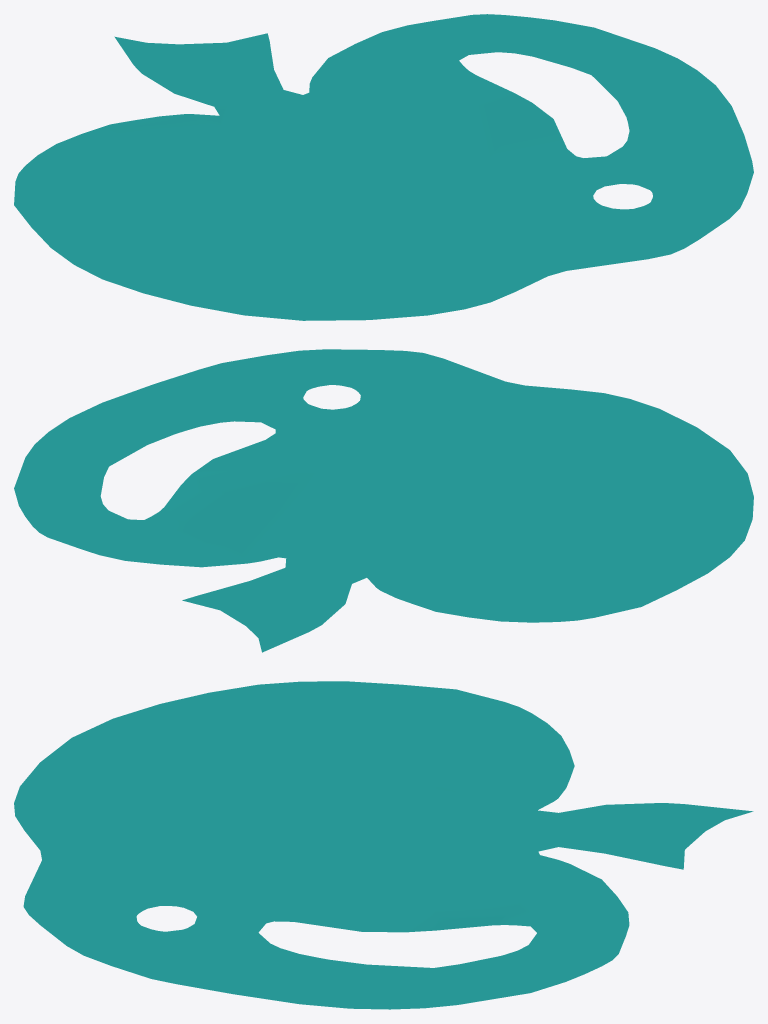
Rendered from apple_color_2.fbx.
3 renders of one model, top to bottom at view 1: azimuth 30°, elevation 25°; view 2: azimuth 150°, elevation 25°; view 3: azimuth 270°, elevation 25°, orthographic. The views are drawn at different scales.
Parts seen in each view (by area): view 1: apple_color_2; view 2: apple_color_2; view 3: apple_color_2.
Part boxes in pixels (<box>): apple_color_2: <box>14,14,753,320</box>; apple_color_2: <box>14,349,753,652</box>; apple_color_2: <box>14,681,753,1009</box>.
Size of the model in its own units: 58 by 0 by 55.29.
